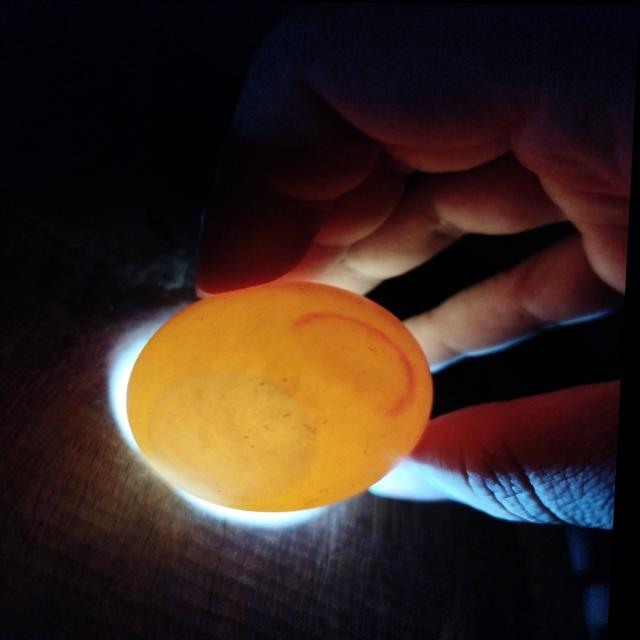Camara de Ar: (154, 375, 321, 501)
